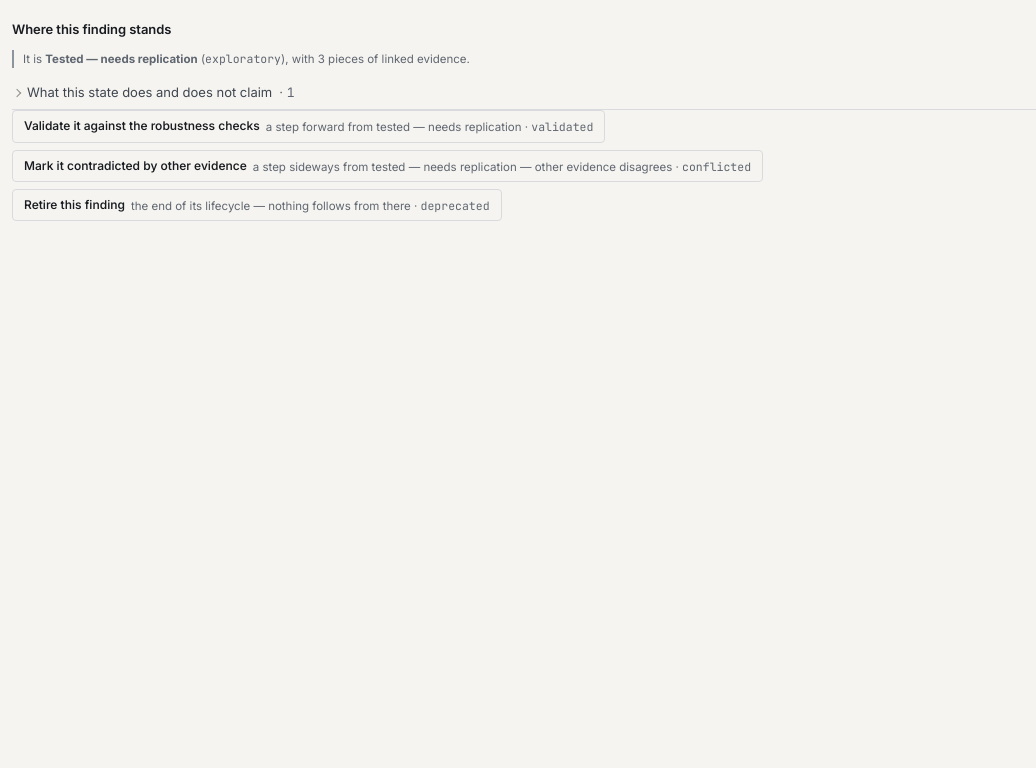
Test: when the server refuses › repeats which checks are missing, rather than 'could not promote'
Click the button "Validate it against the robustness checks" at (309, 126), box x1=12 y1=110 x2=605 y2=143
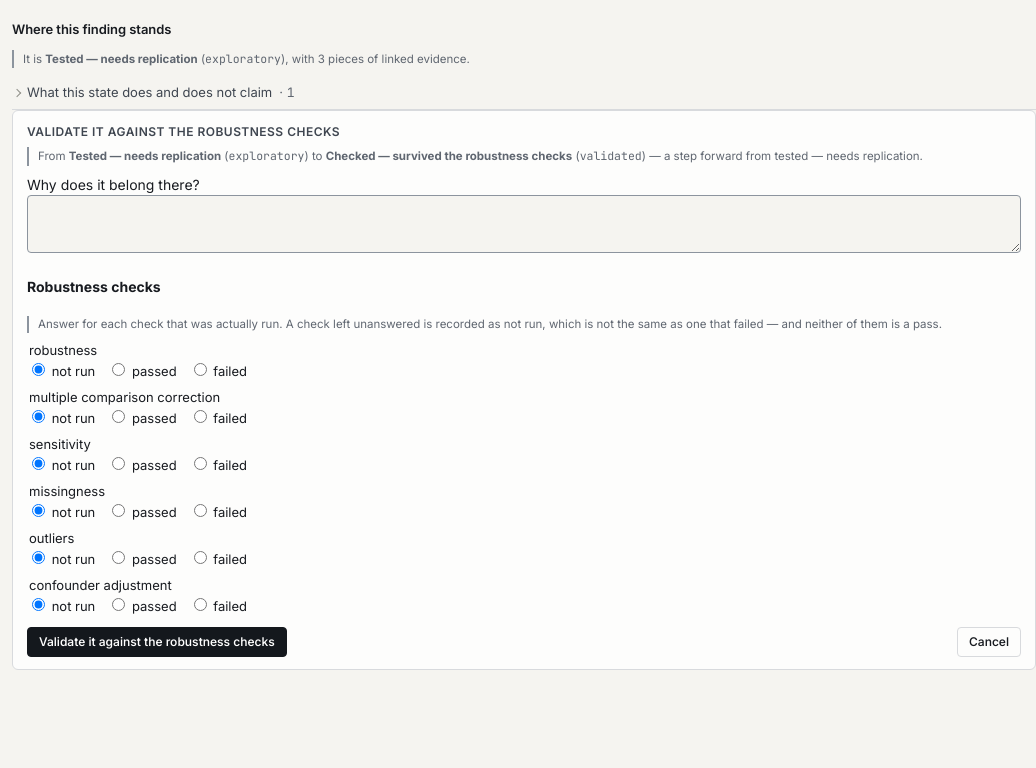
Type "Looks fine." into the text box at (524, 224), box x1=27 y1=194 x2=1021 y2=252
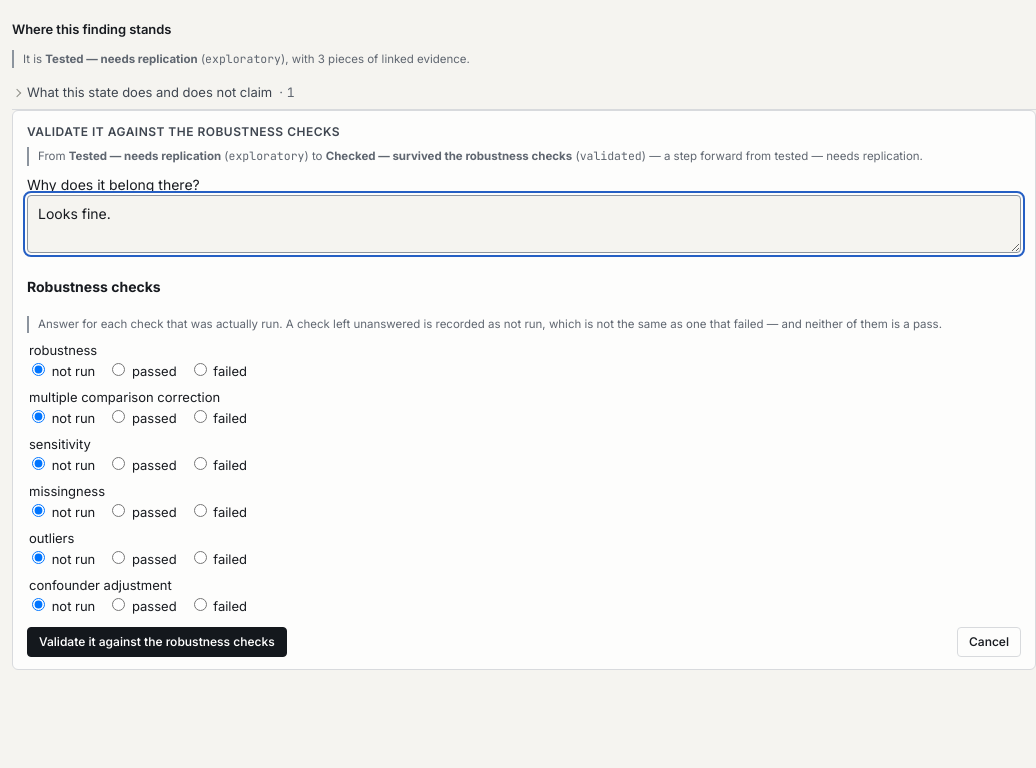
Click the button "Validate it against the robustness checks" at (157, 642), box x1=27 y1=627 x2=287 y2=657
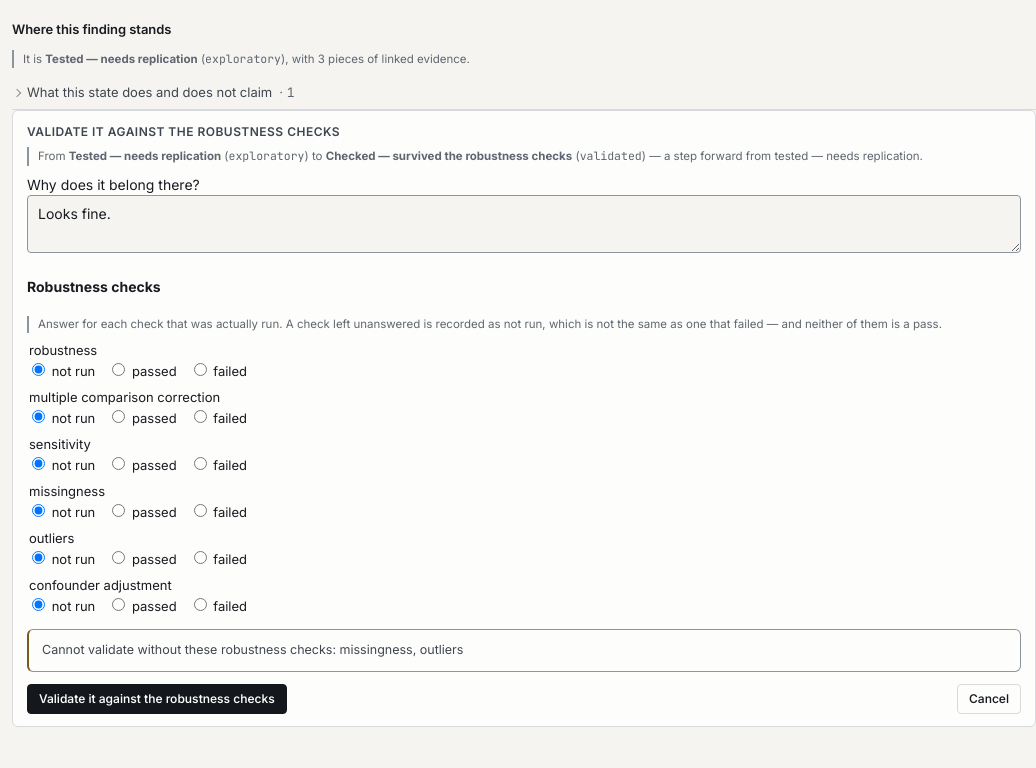
Expected: the text "Cannot validate without these robustness checks: missingness, outliers" is shown, x1=27 y1=629 x2=1021 y2=672
